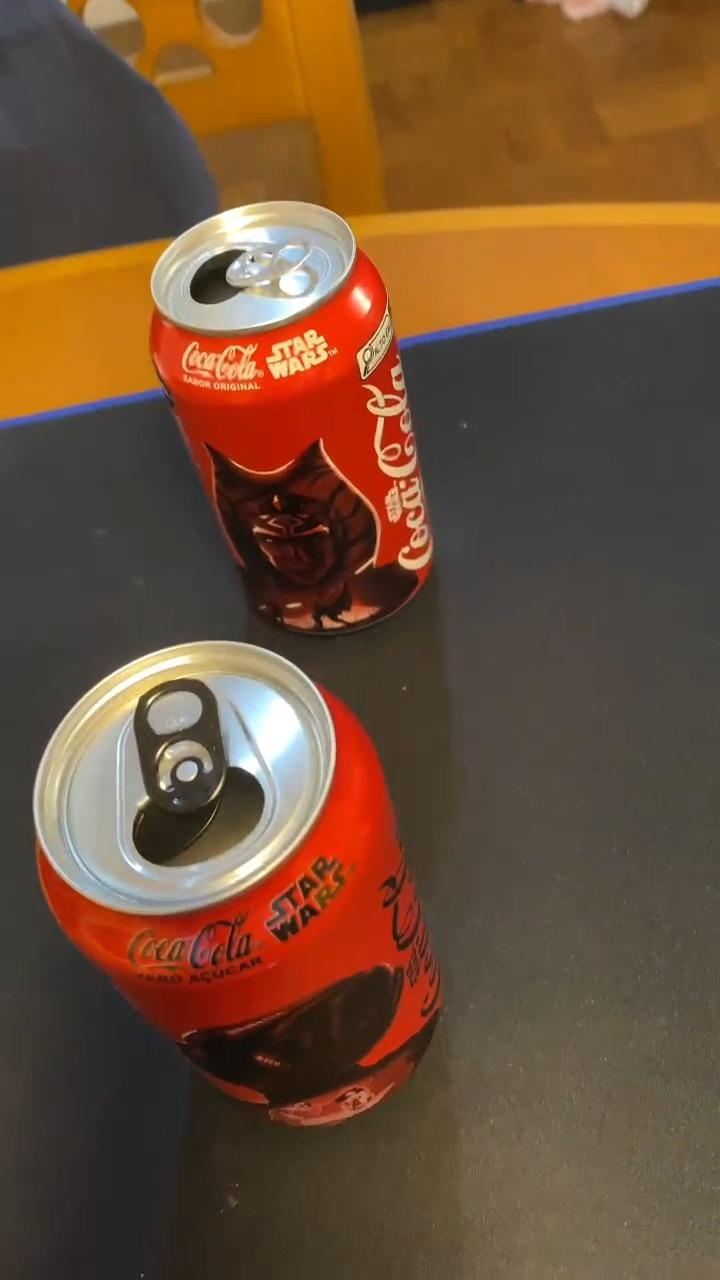coke: (37, 638, 446, 1122), (143, 204, 432, 634)
